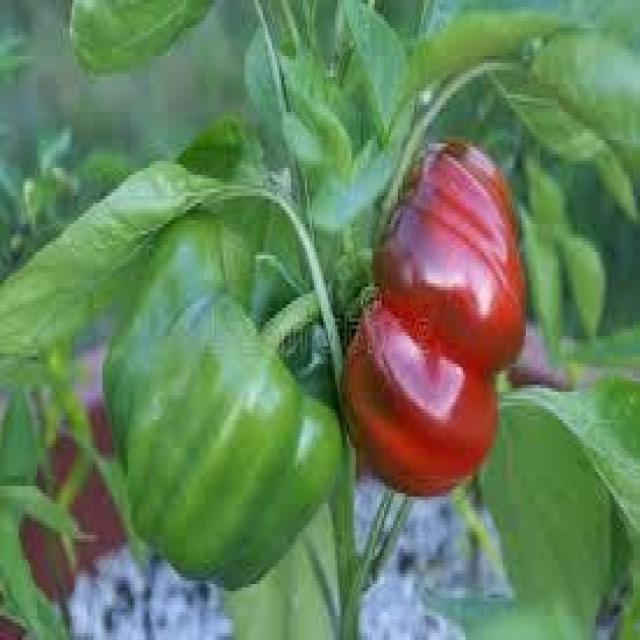bell_pepper: (99, 271, 356, 608), (351, 138, 528, 520)
